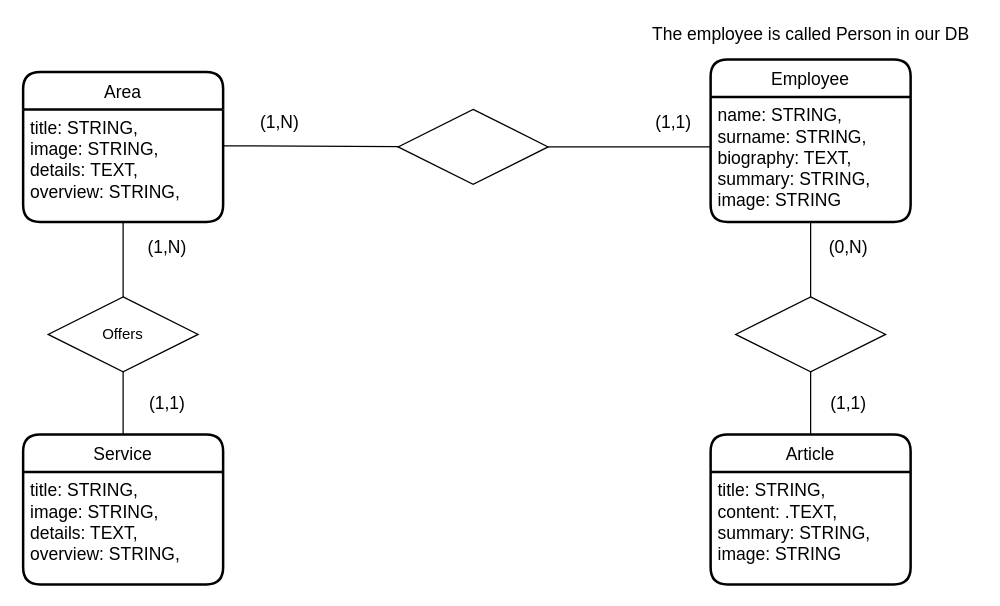
Image size: 1000x606. Some labels were removed from this diagram. The centre of each missing label's shape, as x and y in pixels:
Creates: point (810, 334)
Worksin: point (472, 146)
